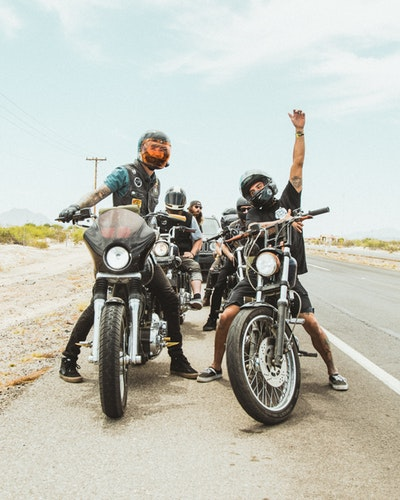helmet: (132, 127, 178, 171), (234, 175, 288, 208), (161, 185, 189, 213)
